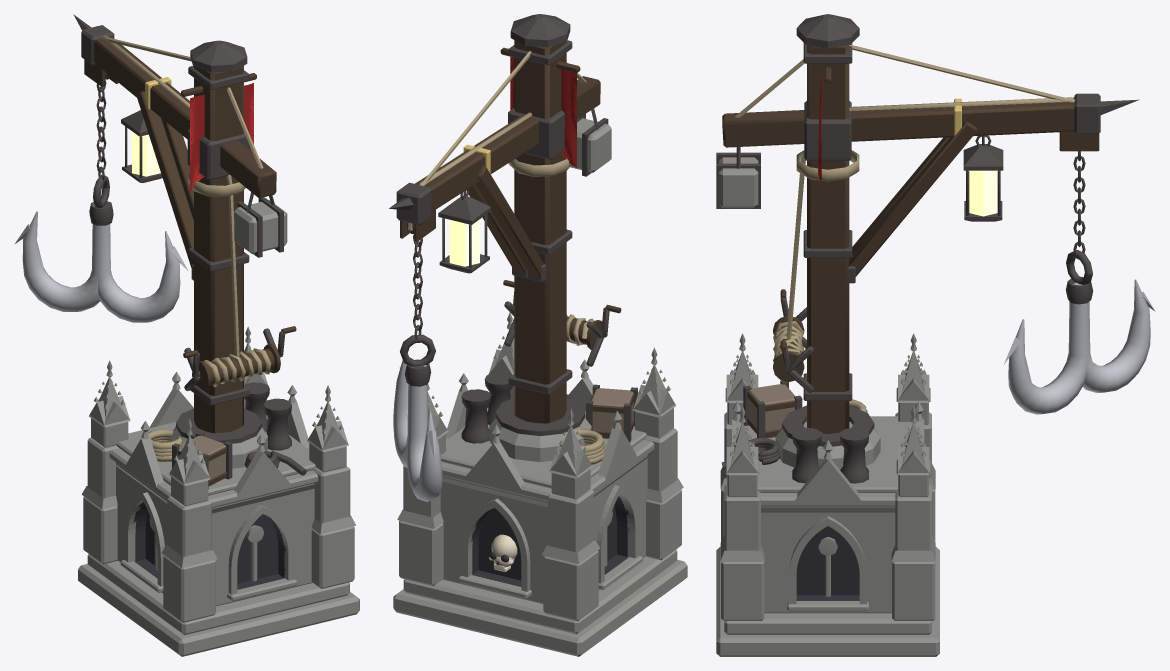
The model's file is tower_hook_3.glb.
The picture shows the model from 3 angles, left to right: view 1: azimuth 30°, elevation 25°; view 2: azimuth 150°, elevation 25°; view 3: azimuth 270°, elevation 25°; orthographic projection. The views are drawn at different scales.
Parts seen in each view (by area): view 1: tower, turret, hook; view 2: tower, turret, hook; view 3: tower, turret, hook.
Boxes of the visible parts, x1,y1,x2,y2 form: tower: [78, 326, 359, 656]; turret: [73, 14, 296, 433]; hook: [15, 79, 188, 322]; tower: [393, 312, 687, 656]; turret: [389, 14, 621, 423]; hook: [393, 234, 442, 501]; tower: [716, 333, 939, 656]; turret: [716, 14, 1139, 433]; hook: [1004, 151, 1155, 414].
Bounding box in the file's own units: 1.7 × 4.99 × 3.34.
